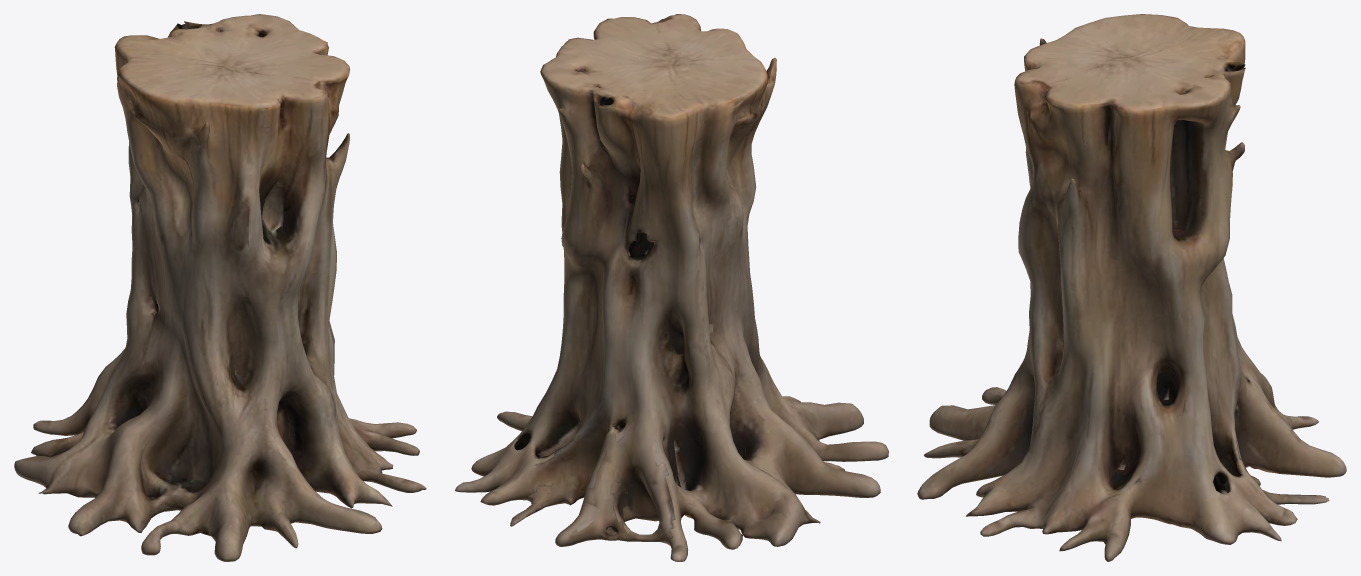
The picture shows the model from 3 angles, left to right: view 1: azimuth 30°, elevation 25°; view 2: azimuth 150°, elevation 25°; view 3: azimuth 270°, elevation 25°; orthographic projection. The views are drawn at different scales.
Bounding box in the file's own units: 1.88 × 2.01 × 1.88.
Materials: 1 (1 with a texture image).
